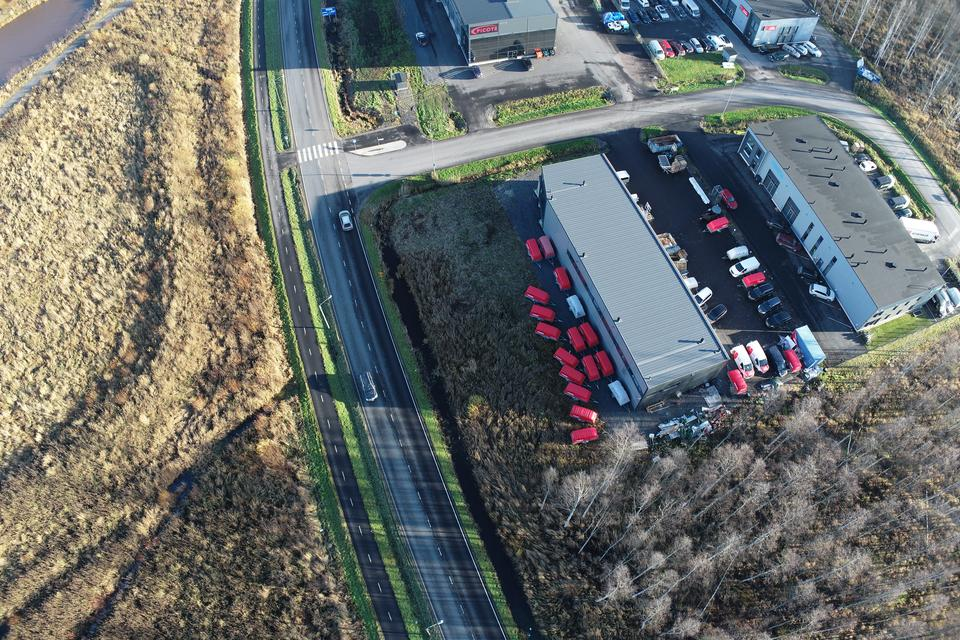intersection: (230, 116, 448, 221)
